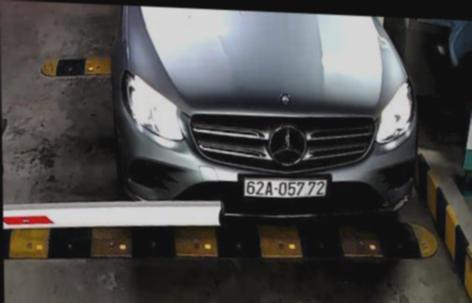License_Plate: (240, 173, 329, 204)
